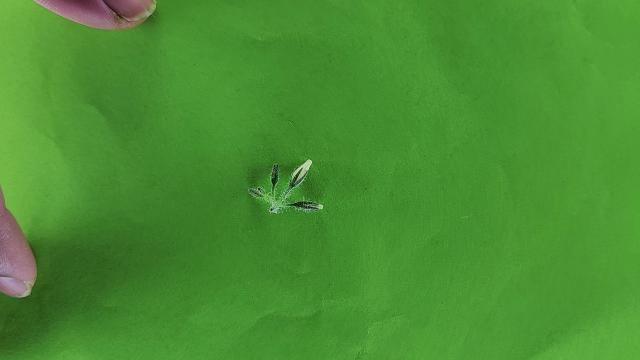Flower Bud: (280, 158, 313, 202), (284, 200, 324, 212), (289, 169, 307, 189), (247, 187, 268, 202), (271, 163, 279, 187)
